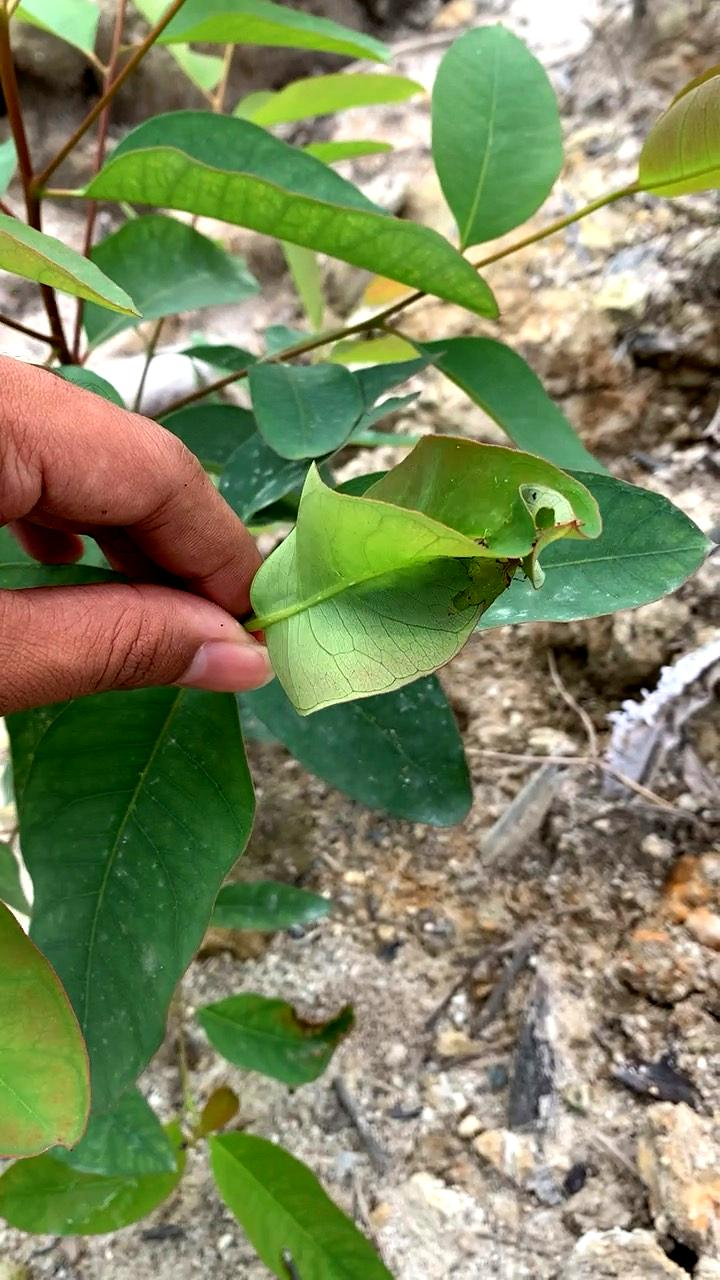Leaf Roller - Leaf: (229, 403, 631, 776)
